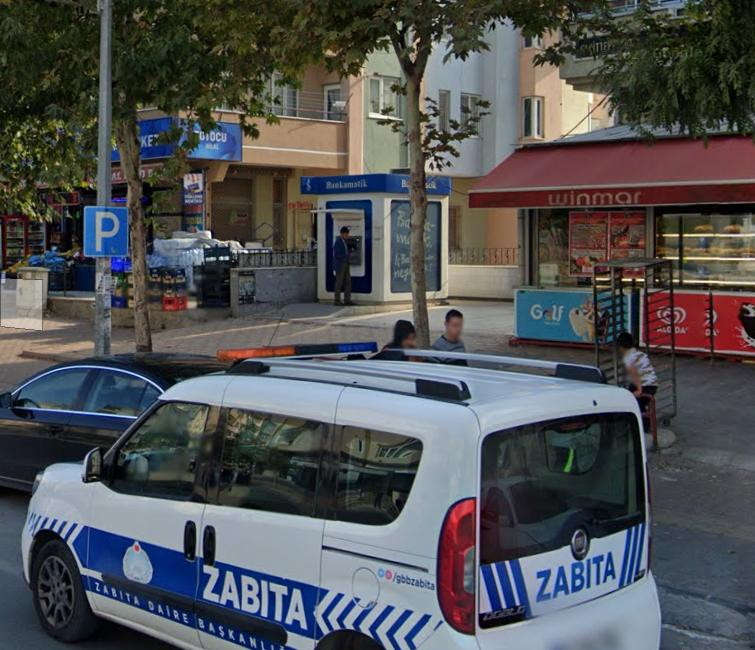park: (84, 207, 128, 257)
